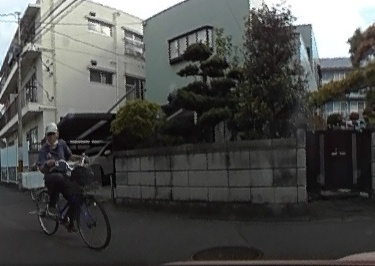person: (37, 121, 77, 224)
